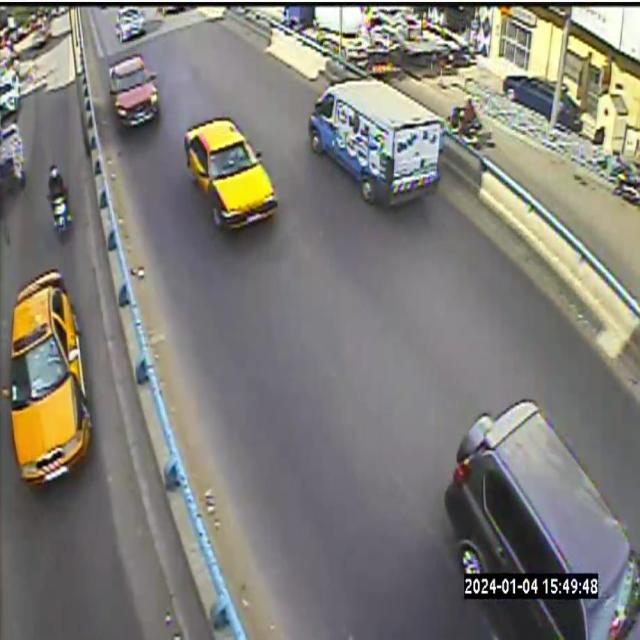car: (445, 400, 639, 639), (307, 80, 441, 204), (184, 117, 278, 227), (184, 117, 278, 226), (110, 55, 159, 127), (115, 7, 145, 42)
